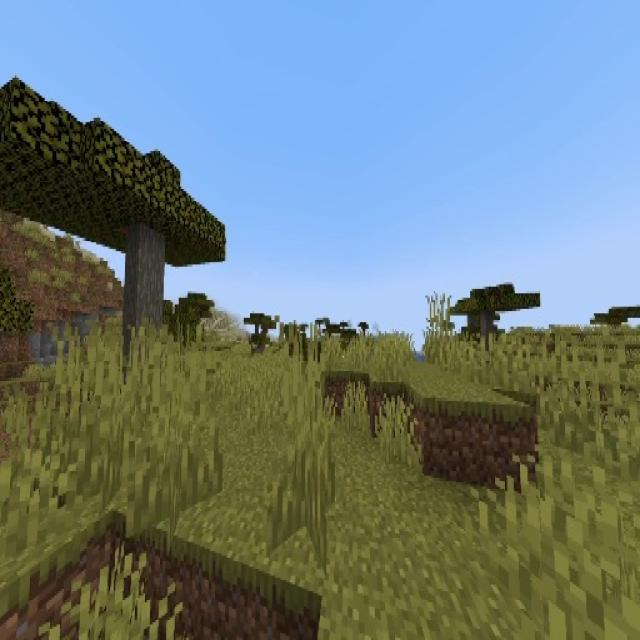acacia: (0, 79, 229, 376)
acacia_log: (126, 227, 162, 375)
